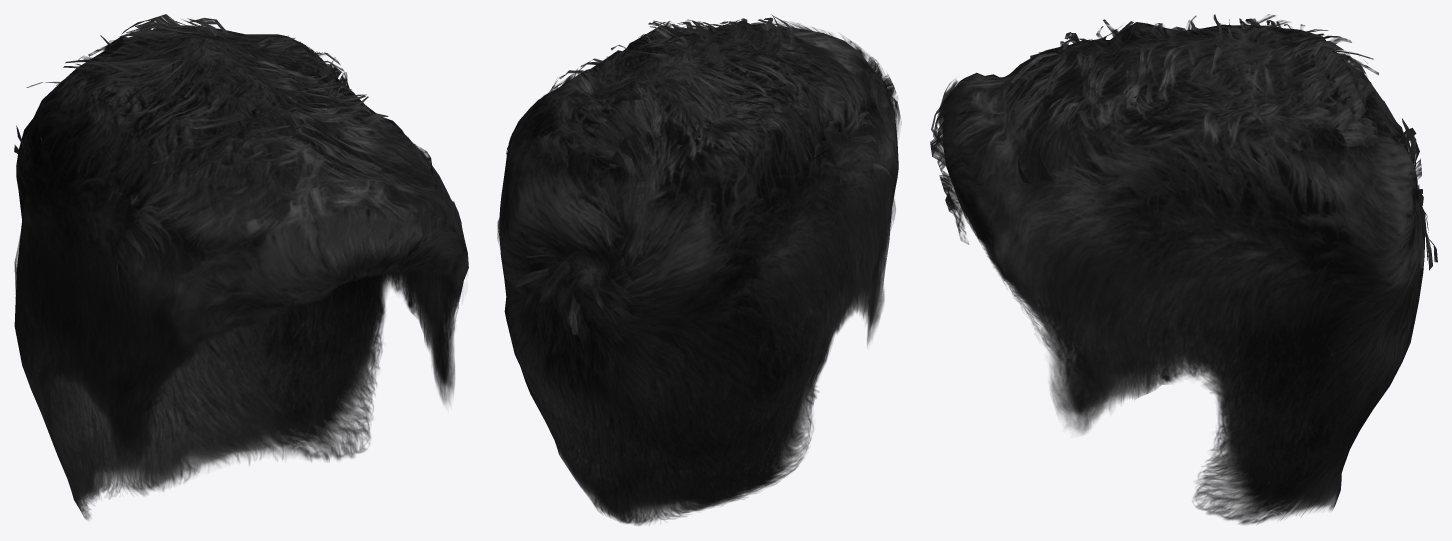
The model's file is hair-male-short01.glb.
3 renders of one model, left to right at view 1: azimuth 30°, elevation 25°; view 2: azimuth 150°, elevation 25°; view 3: azimuth 270°, elevation 25°, orthographic. The views are drawn at different scales.
Visible parts, largest first — view 1: short01; view 2: short01; view 3: short01.
Boxes of the visible parts, x1,y1,x2,y2 form: short01: (14, 14, 468, 520); short01: (497, 14, 901, 525); short01: (930, 14, 1437, 524).
Size of the model in its own units: 0.3019 by 0.414 by 0.4052.
1 material, 1 textured.
